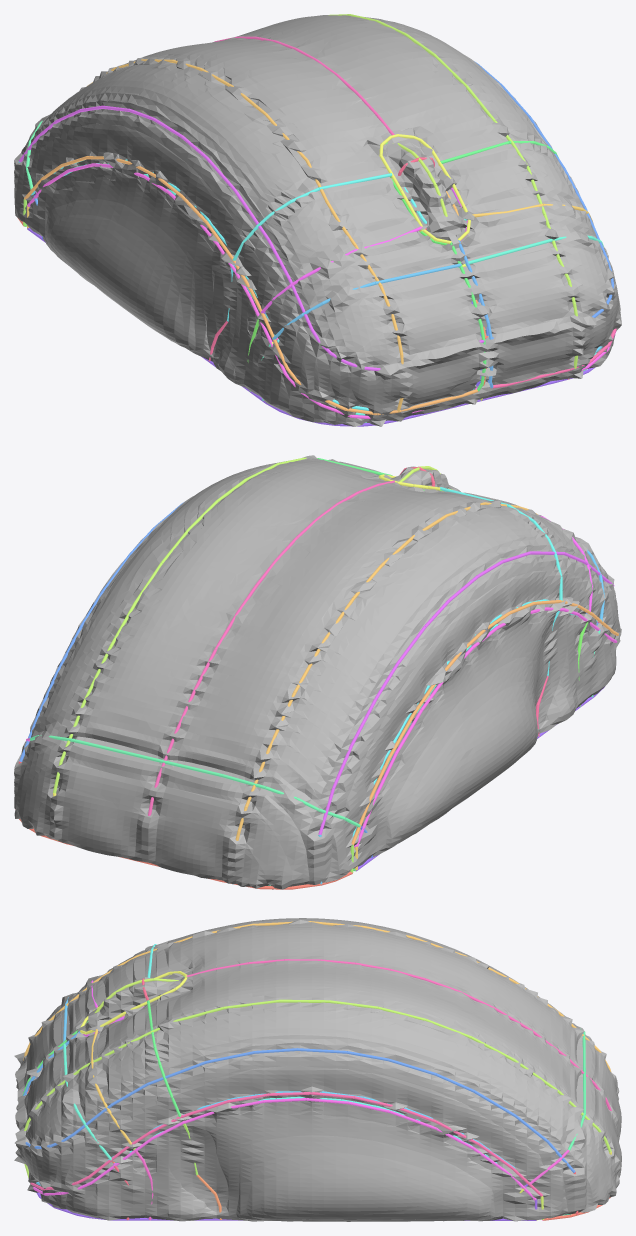
Rendered from flowrep_mouse.gltf.
3 views of the same model, one above another, from view 1: azimuth 30°, elevation 25°; view 2: azimuth 150°, elevation 25°; view 3: azimuth 270°, elevation 25° (orthographic). The views are drawn at different scales.
Size of the model in its own units: 0.5445 by 0.309 by 0.8574.
